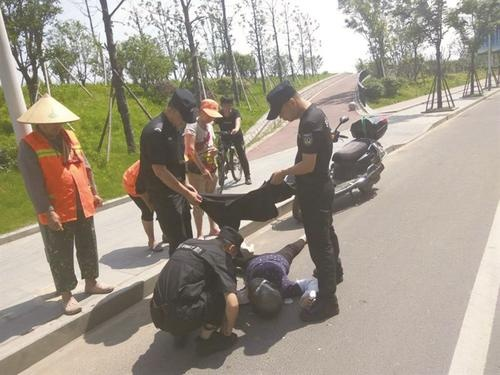falling: (232, 225, 326, 318)
